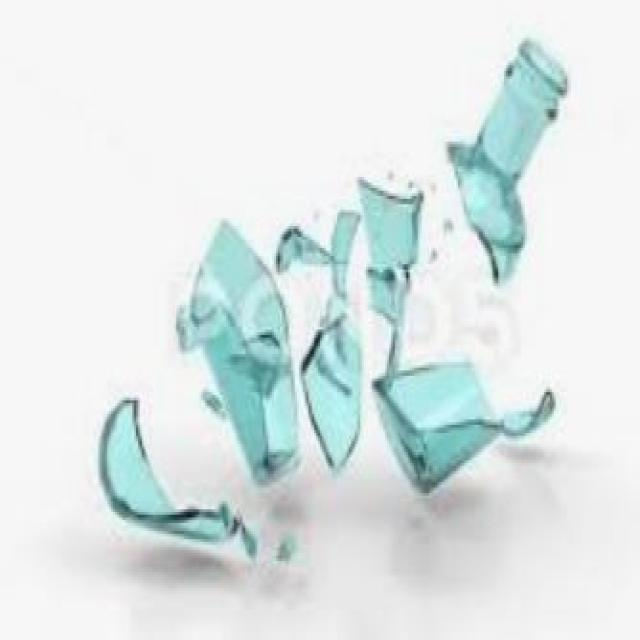electronic: (97, 37, 575, 569)
